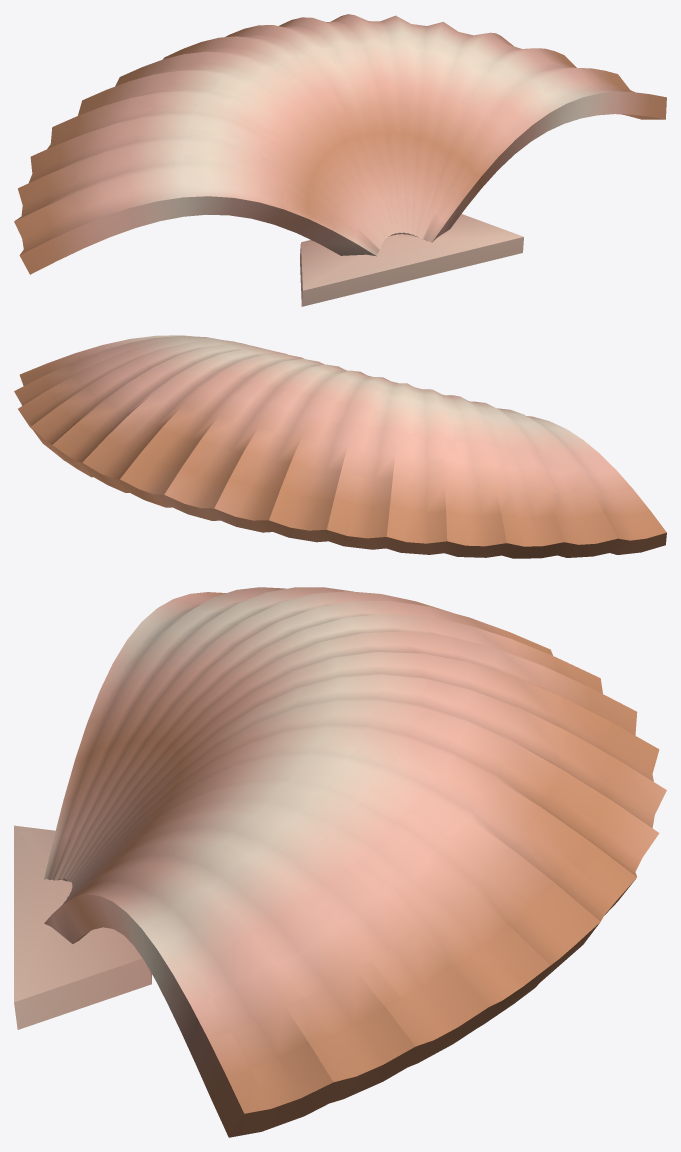
Rendered from shore_scallop.glb.
The picture shows the model from 3 angles, top to bottom: view 1: azimuth 30°, elevation 25°; view 2: azimuth 150°, elevation 25°; view 3: azimuth 270°, elevation 25°; orthographic projection. The views are drawn at different scales.
Visible parts, largest first — view 1: shore_scallop; view 2: shore_scallop; view 3: shore_scallop.
Boxes of the visible parts, x1=… form: shore_scallop: x1=14, y1=14, x2=666, y2=306; shore_scallop: x1=14, y1=335, x2=666, y2=558; shore_scallop: x1=14, y1=587, x2=666, y2=1137.
Size of the model in its own units: 7.96 by 1.91 by 4.24.
